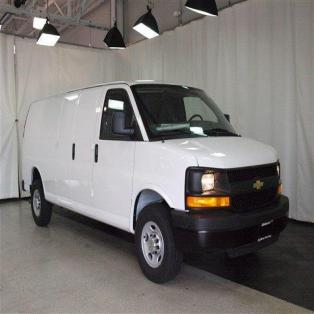Auto: (20, 78, 290, 286)
